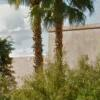Tree: (22, 0, 94, 37)
